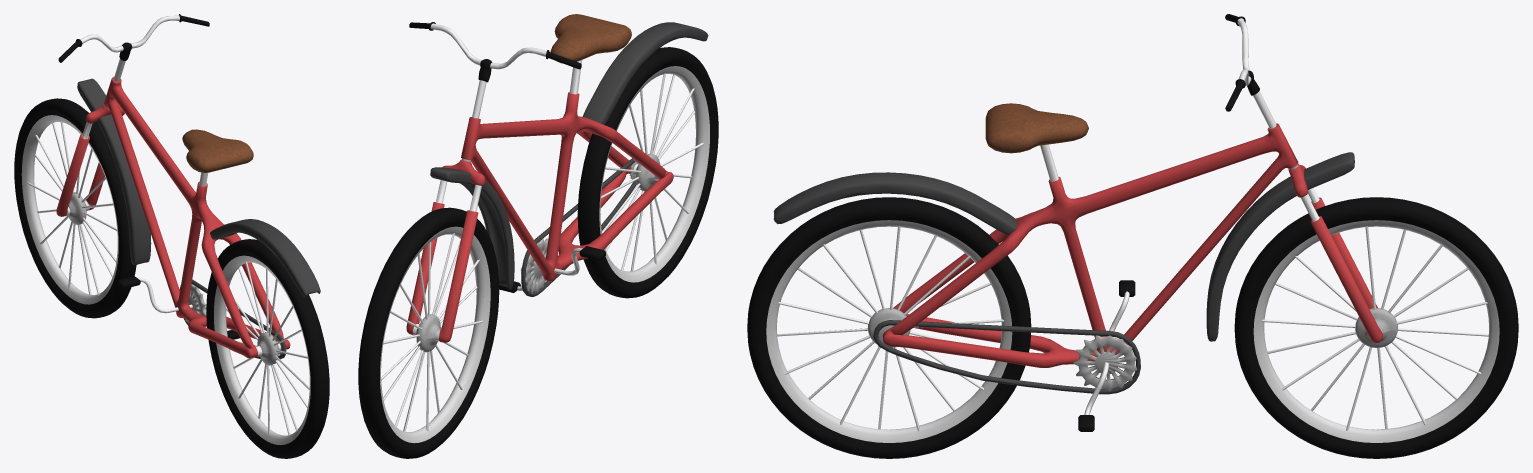
Rendered from bike.glb.
3 renders of one model, left to right at view 1: azimuth 30°, elevation 25°; view 2: azimuth 150°, elevation 25°; view 3: azimuth 270°, elevation 25°, orthographic. The views are drawn at different scales.
Parts seen in each view (by area): view 1: bicycle_body_forward_0; view 2: bicycle_body_forward_0; view 3: bicycle_body_forward_0.
Boxes of the visible parts, x1,y1,x2,y2 form: bicycle_body_forward_0: [14, 14, 329, 458]; bicycle_body_forward_0: [358, 14, 718, 458]; bicycle_body_forward_0: [747, 14, 1518, 458].
Bounding box in the file's own units: 0.512 × 1.05 × 1.8.
8 materials, 2 textured.
